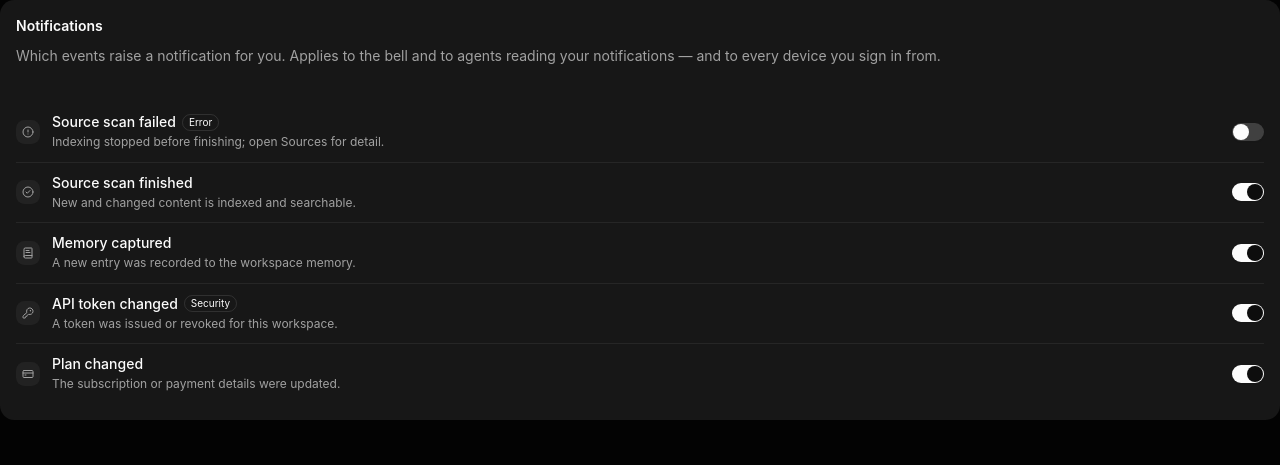
Test case: NotificationSettings (F-065) › reflects the SERVER’s answer, not the click
The width and height of the screenshot is (1280, 465).
Click the switch named "Source scan failed" at (1248, 132), box [1232,122,1264,141]
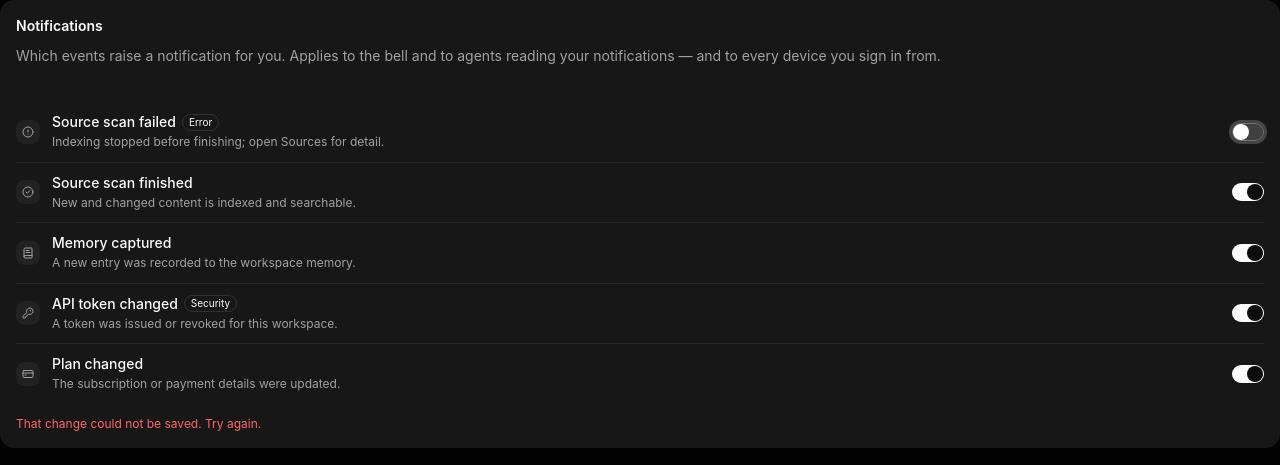
Now the text "That change could not be saved. Try again." is shown, box [16,416,261,430]
